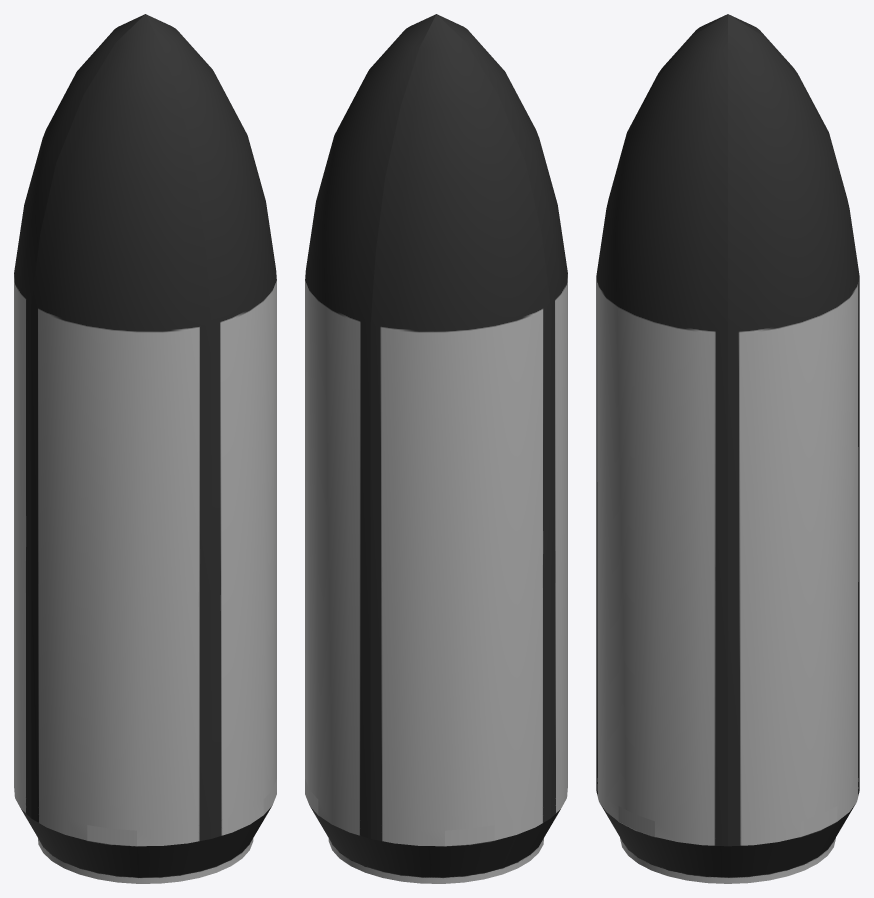
File: fairing2.fbx
3 views of the same model, side by side, from view 1: azimuth 30°, elevation 25°; view 2: azimuth 150°, elevation 25°; view 3: azimuth 270°, elevation 25° (orthographic).
Parts seen in each view (by area): view 1: fairing_001, fairing, fairing_002, base; view 2: fairing_002, fairing_003, fairing_001, base; view 3: fairing_003, fairing, base.
Part boxes in pixels (x1,y1,x2,y2): fairing_001: (31,14,211,846); fairing: (145,14,276,838); fairing_002: (14,14,144,817); base: (21,779,276,883); fairing_002: (370,14,550,846); fairing_003: (305,14,436,838); fairing_001: (437,14,567,817); base: (305,779,560,883); fairing_003: (728,14,859,846); fairing: (596,14,727,846); base: (600,804,855,883).
Size of what is drawn, in the model's own units: 1.52 by 5.26 by 1.52.
2 materials, 1 textured.
